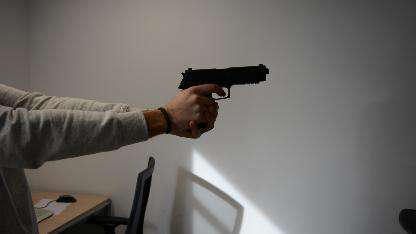pistol: (177, 63, 269, 132)
